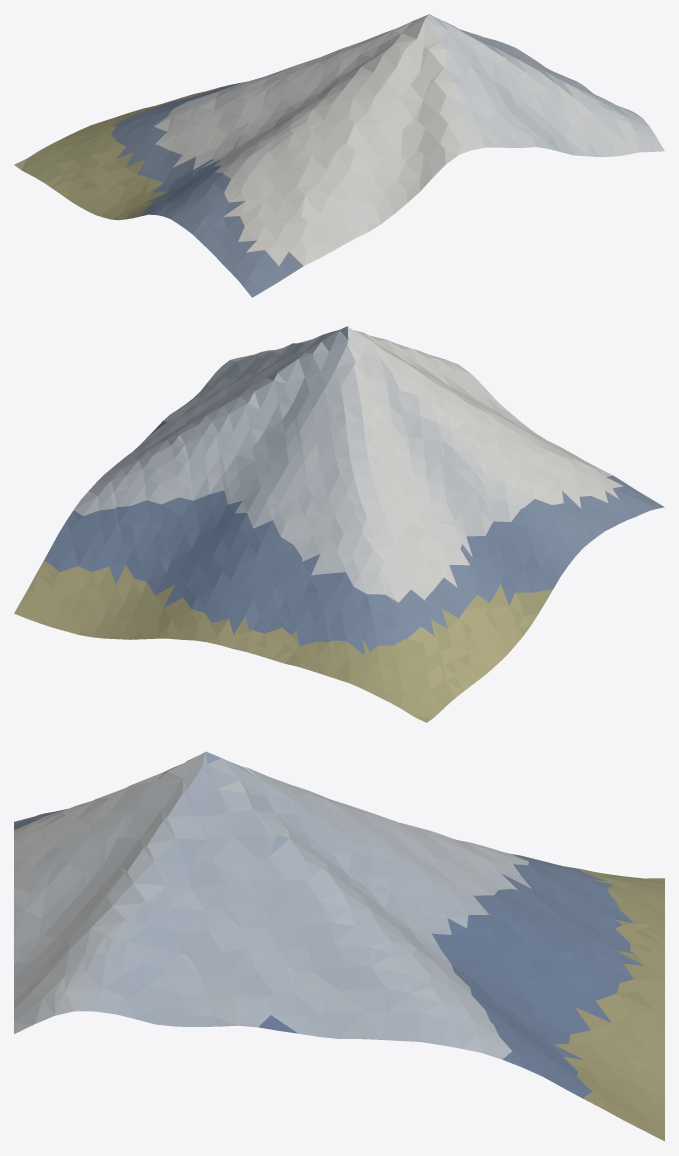
Rendered from Ground_5_-4.glb.
The picture shows the model from 3 angles, top to bottom: view 1: azimuth 30°, elevation 25°; view 2: azimuth 150°, elevation 25°; view 3: azimuth 270°, elevation 25°; orthographic projection. The views are drawn at different scales.
Visible parts, largest first — view 1: Ground_5_-4; view 2: Ground_5_-4; view 3: Ground_5_-4.
Part boxes in pixels (x1,y1,x2,y2): Ground_5_-4: (14,14,664,297); Ground_5_-4: (14,326,664,722); Ground_5_-4: (14,751,664,1141).
Bounding box in the file's own units: 768 × 380 × 768.
